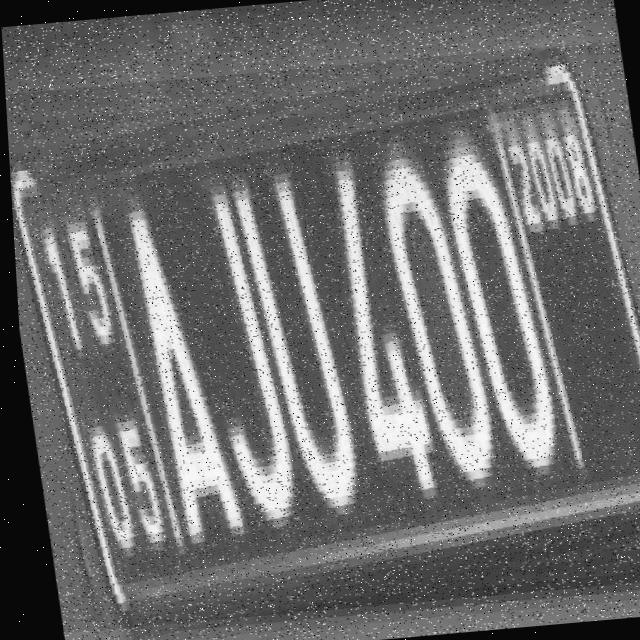LicensePlate: (2, 40, 640, 633)
